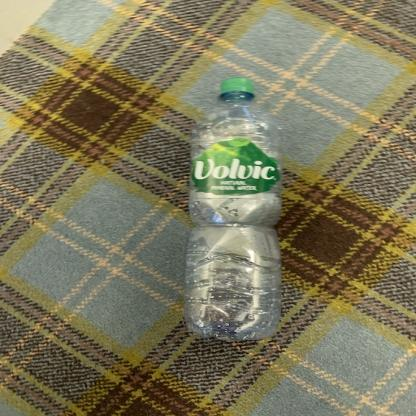trash: (182, 76, 284, 341)
